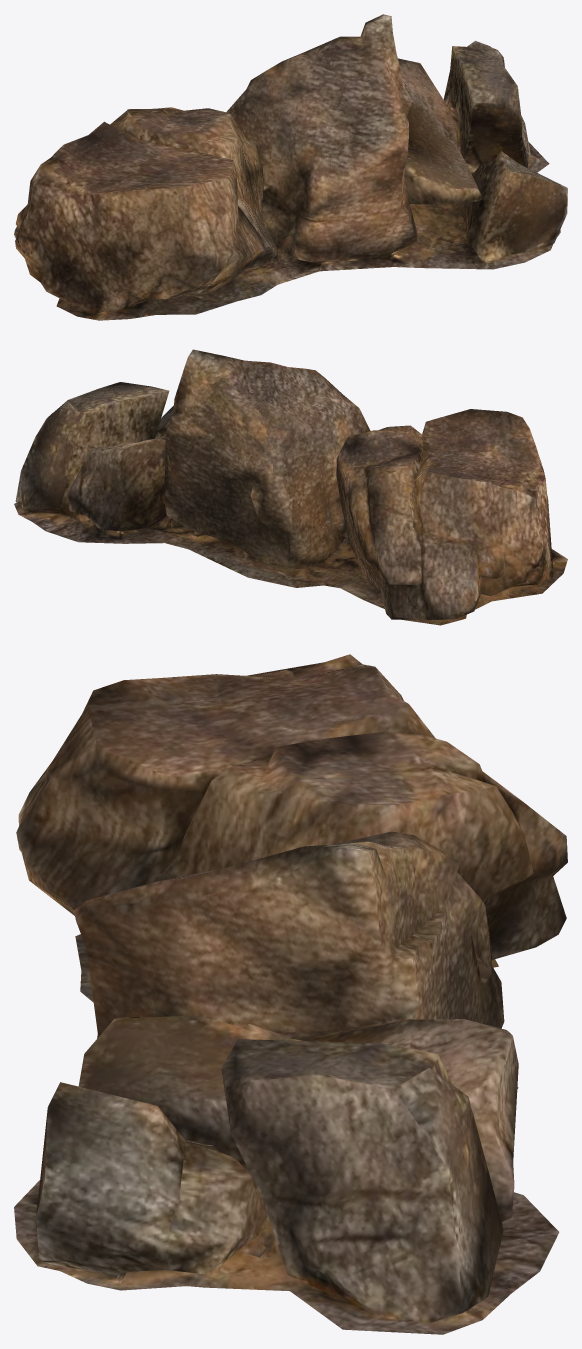
Rendered from boulder-b.glb.
3 views of the same model, one above another, from view 1: azimuth 30°, elevation 25°; view 2: azimuth 150°, elevation 25°; view 3: azimuth 270°, elevation 25° (orthographic). The views are drawn at different scales.
Parts seen in each view (by area): view 1: boulder_02; view 2: boulder_02; view 3: boulder_02.
Part boxes in pixels (bbox=[...]): boulder_02: bbox=[14, 14, 567, 320]; boulder_02: bbox=[14, 349, 567, 625]; boulder_02: bbox=[14, 654, 567, 1334].
Size of the model in its own units: 2.51 by 0.8697 by 1.23.
Materials: 1 (1 with a texture image).
